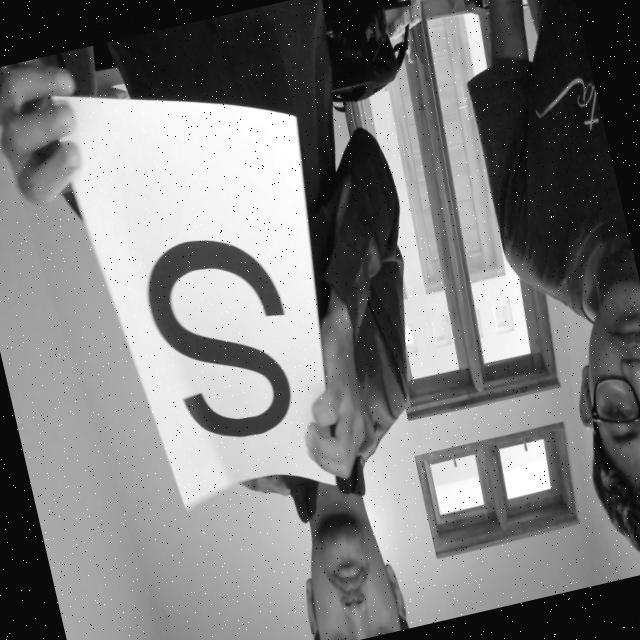s: (125, 194, 316, 474)
